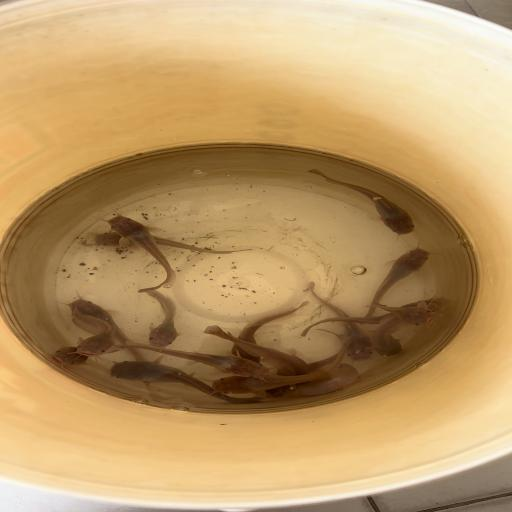lele: (66, 299, 156, 392), (211, 337, 352, 394), (307, 168, 415, 236), (110, 358, 268, 404), (202, 326, 308, 386), (100, 216, 178, 292), (298, 297, 444, 336), (306, 281, 376, 361), (122, 342, 268, 380), (363, 247, 434, 320), (230, 300, 312, 362), (374, 298, 451, 358), (92, 232, 253, 255), (270, 363, 360, 398), (70, 307, 118, 356), (144, 290, 182, 348), (371, 300, 439, 326), (304, 328, 345, 368), (53, 344, 92, 368)
